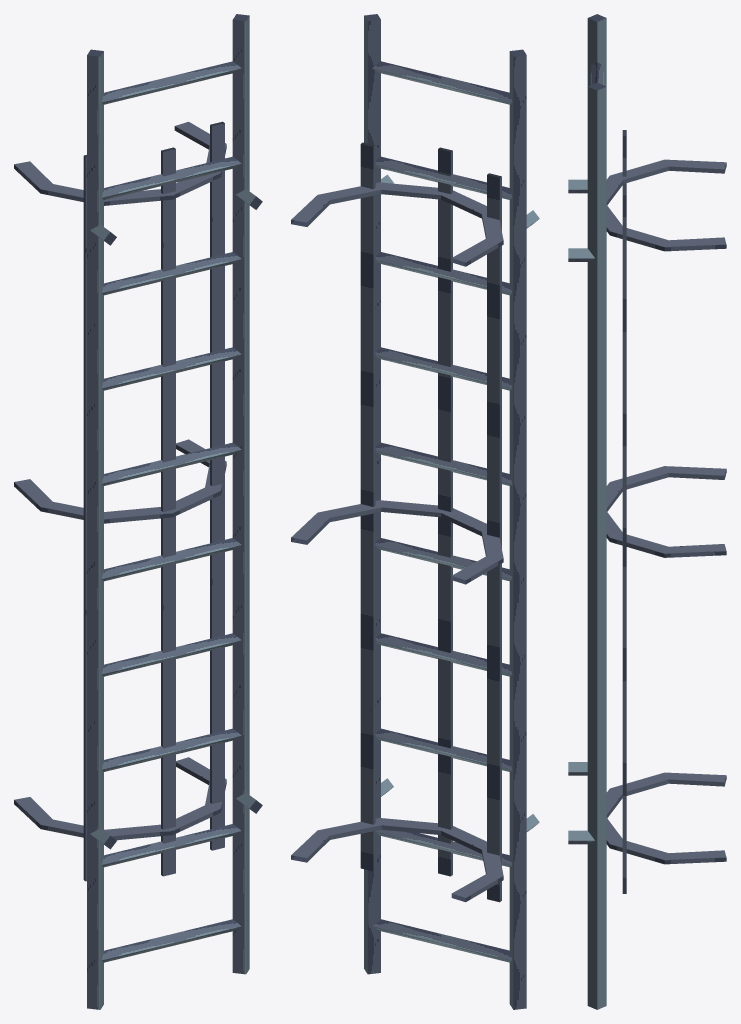
File: IND-06_Escalera_de_gato.gltf
3 views of the same model, side by side, from view 1: azimuth 30°, elevation 25°; view 2: azimuth 150°, elevation 25°; view 3: azimuth 270°, elevation 25° (orthographic). The views are drawn at different scales.
Visible parts, largest first — view 1: IND-06_Escalera_de_gato-col; view 2: IND-06_Escalera_de_gato-col; view 3: IND-06_Escalera_de_gato-col.
Part boxes in pixels (x1=…): IND-06_Escalera_de_gato-col: x1=14, y1=14, x2=262, y2=1009; IND-06_Escalera_de_gato-col: x1=291, y1=14, x2=539, y2=1009; IND-06_Escalera_de_gato-col: x1=568, y1=14, x2=726, y2=1009.
Bounding box in the file's own units: 0.6128 × 3 × 0.4673.
Materials: 1 (1 with a texture image).
